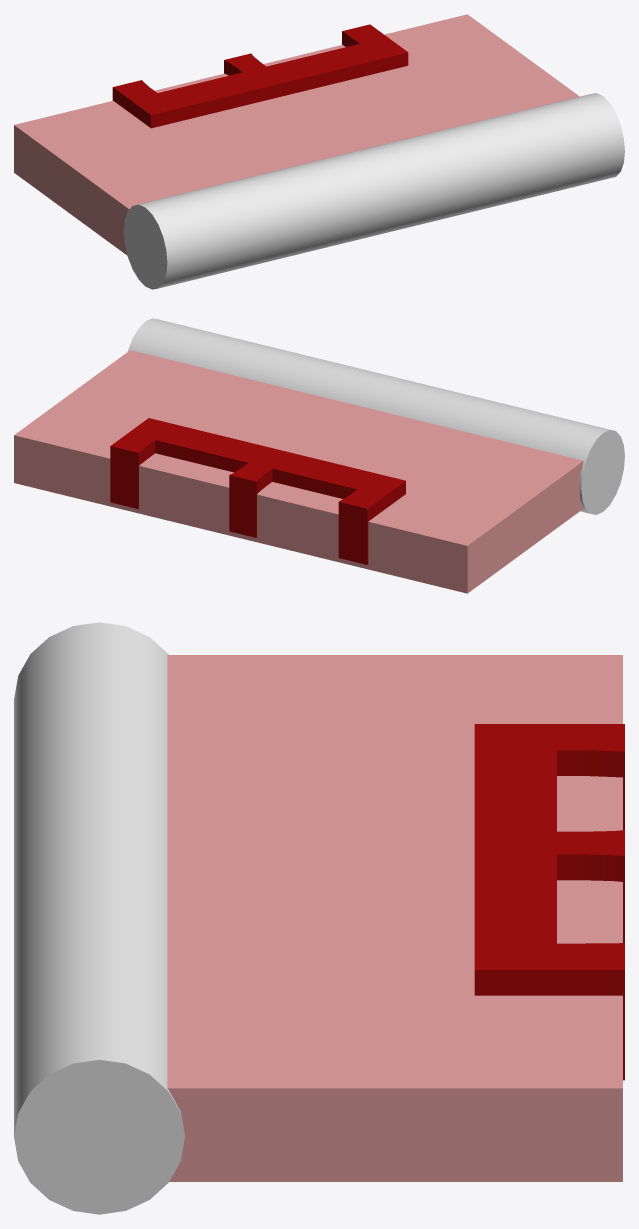
The model's file is B_Left.fbx.
3 views of the same model, one above another, from view 1: azimuth 30°, elevation 25°; view 2: azimuth 150°, elevation 25°; view 3: azimuth 270°, elevation 25° (orthographic). The views are drawn at different scales.
Parts seen in each view (by area): view 1: polySurface12; view 2: polySurface12; view 3: polySurface12.
Part boxes in pixels (x1,y1,x2,y2): polySurface12: [14, 14, 624, 289]; polySurface12: [14, 318, 624, 593]; polySurface12: [14, 622, 624, 1214].
Bounding box in the file's own units: 6.05 × 1 × 3.57.
